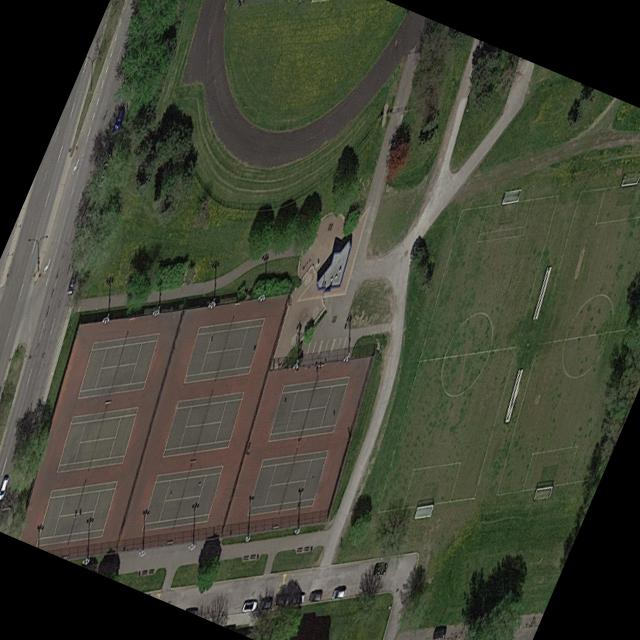small-vehicle: (96, 161, 109, 188), (64, 270, 77, 295), (111, 107, 125, 130), (239, 599, 257, 613), (273, 594, 290, 608), (0, 476, 9, 502), (329, 586, 346, 599), (372, 562, 387, 576), (306, 589, 321, 602), (290, 592, 304, 605), (257, 598, 271, 610), (432, 627, 445, 639)
